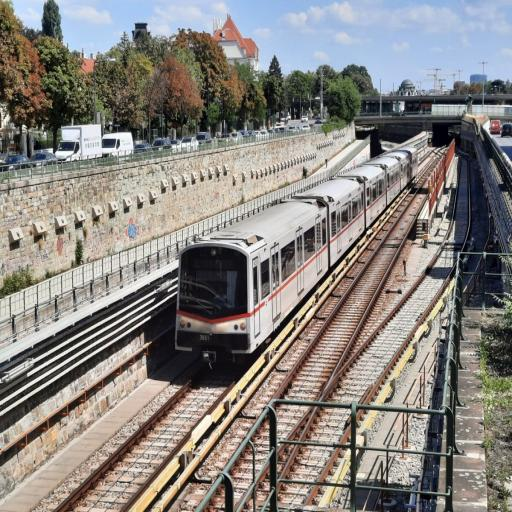V-Wagen: (173, 144, 418, 356)
